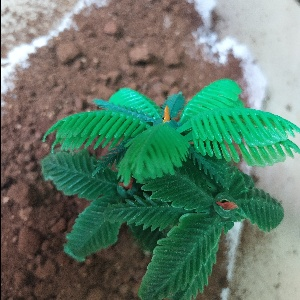plant: (29, 85, 286, 300)
